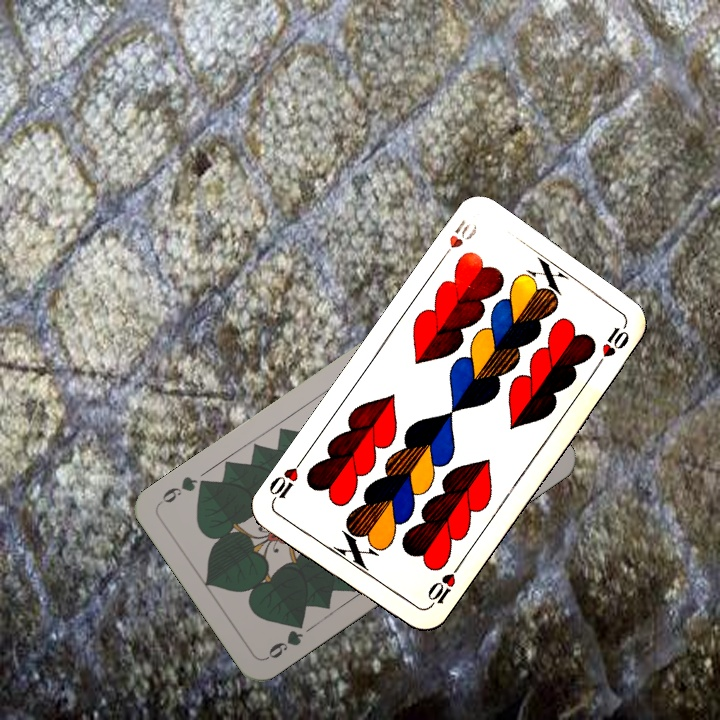G9: (262, 615, 307, 662)
H10: (435, 216, 480, 266), (423, 561, 463, 612)
